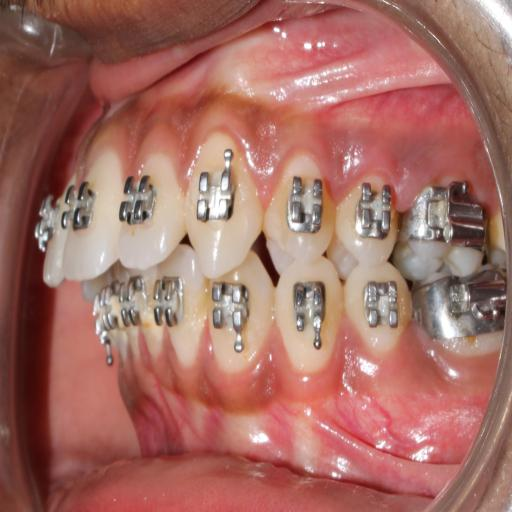correct_brace: (267, 164, 335, 274), (195, 165, 238, 222), (58, 177, 96, 238), (121, 167, 159, 224)
incorrect_brace: (119, 154, 183, 274), (288, 176, 325, 239)
